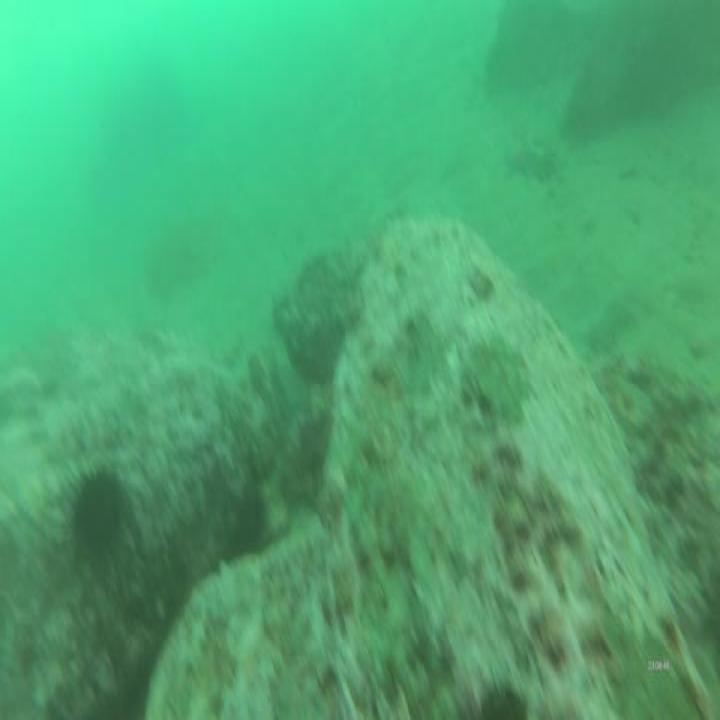echinus: (66, 457, 132, 565)
